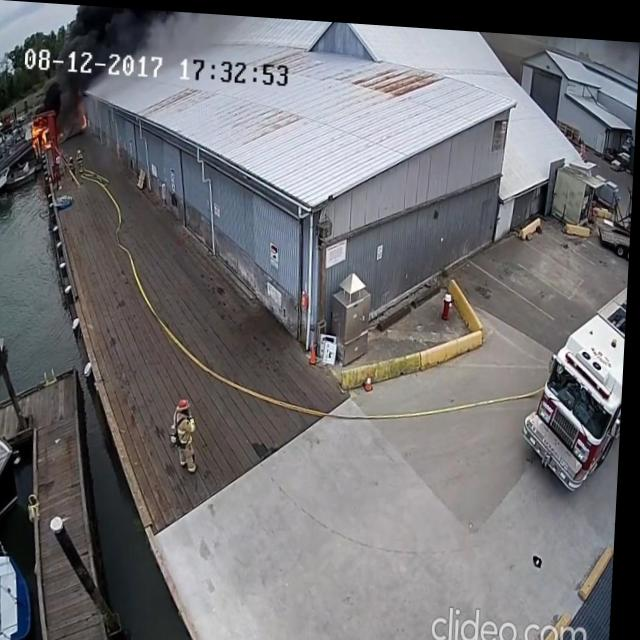fire: (27, 116, 55, 163), (78, 106, 91, 131)
